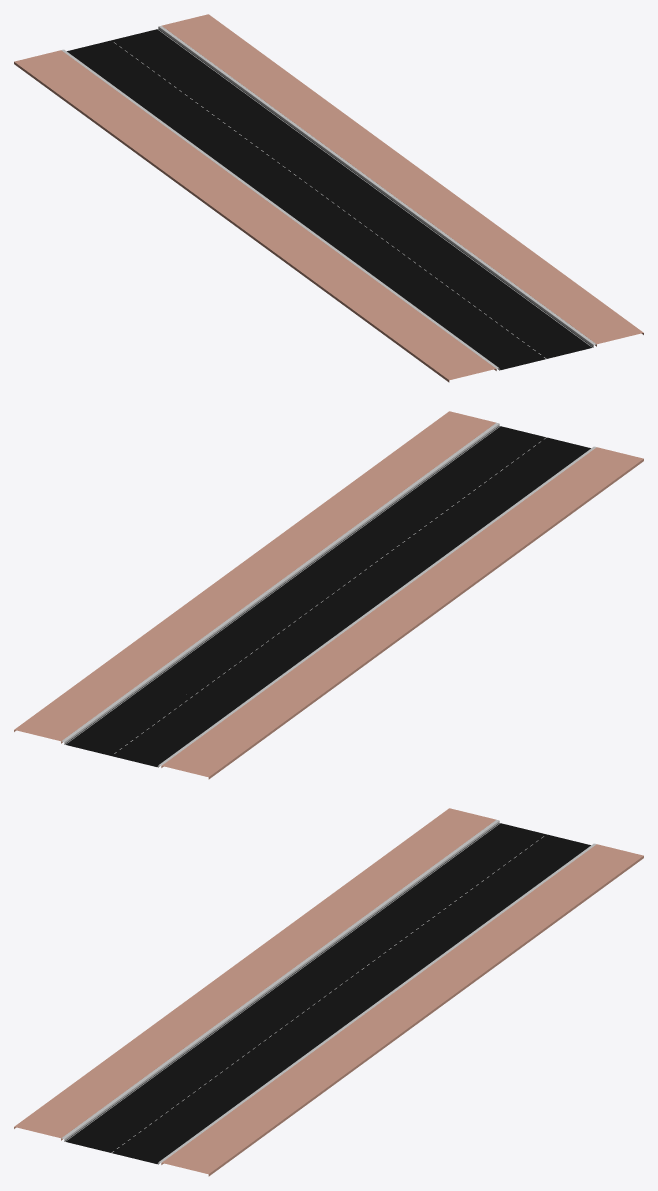
Rendered from Road.obj.
The picture shows the model from 3 angles, top to bottom: view 1: azimuth 30°, elevation 25°; view 2: azimuth 150°, elevation 25°; view 3: azimuth 330°, elevation 25°; orthographic projection.
Visible parts, largest first — view 1: Road_Plane.002; view 2: Road_Plane.002; view 3: Road_Plane.002.
Part boxes in pixels (x1,y1,x2,y2): Road_Plane.002: [14, 14, 643, 382]; Road_Plane.002: [14, 411, 643, 779]; Road_Plane.002: [14, 808, 643, 1176].
Size of the model in its own units: 12.39 by 0.15 by 48.
